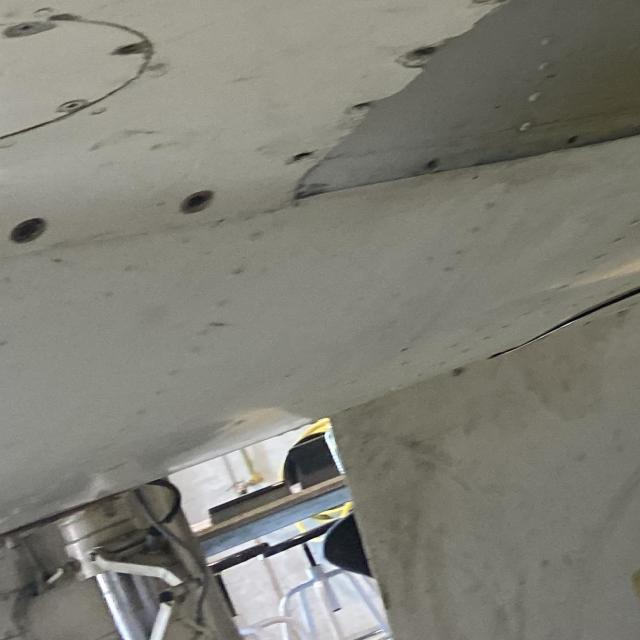Fastener Damage: (182, 187, 214, 216), (406, 42, 438, 61), (472, 0, 504, 9)
